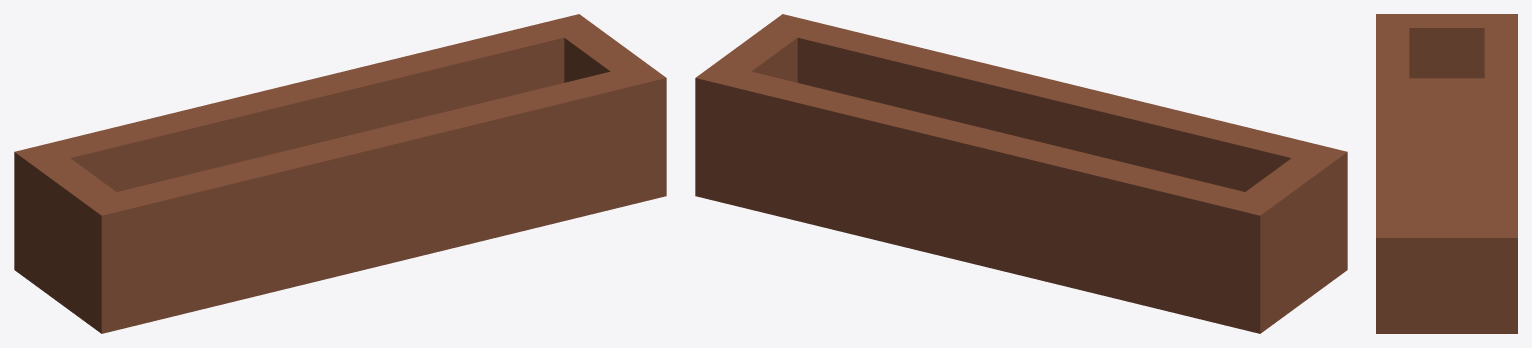
The model's file is Market_goods_2.fbx.
3 renders of one model, left to right at view 1: azimuth 30°, elevation 25°; view 2: azimuth 150°, elevation 25°; view 3: azimuth 270°, elevation 25°, orthographic. The views are drawn at different scales.
Visible parts, largest first — view 1: Market_goods_2; view 2: Market_goods_2; view 3: Market_goods_2.
Part boxes in pixels (left/top/right/bottom): Market_goods_2: left=14, top=14, right=666, bottom=333; Market_goods_2: left=695, top=14, right=1347, bottom=333; Market_goods_2: left=1376, top=14, right=1517, bottom=333.
Size of the model in its own units: 0.478 by 0.0956 by 0.128.
